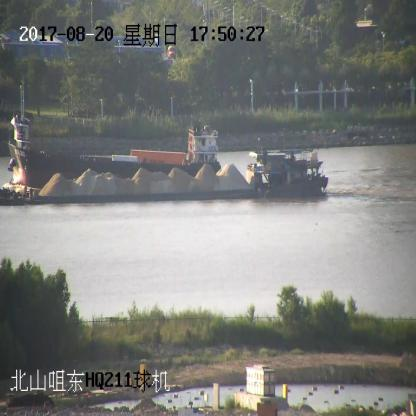Bulk Carrier: (8, 79, 222, 186)
